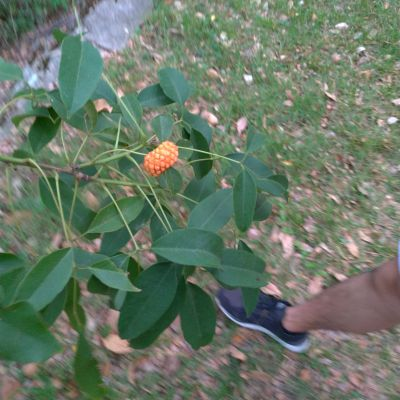eggs: (136, 138, 184, 174)
